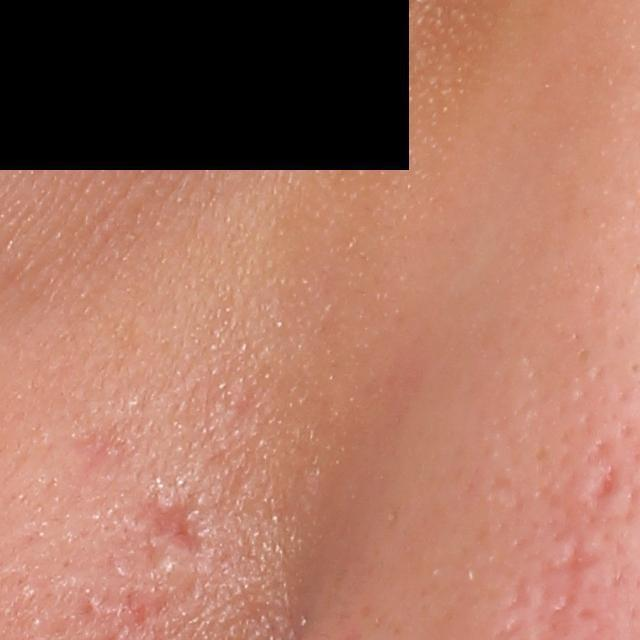atrophic_scar: (128, 481, 218, 568), (542, 520, 602, 626), (588, 460, 618, 509), (504, 570, 534, 612), (584, 434, 612, 467)
